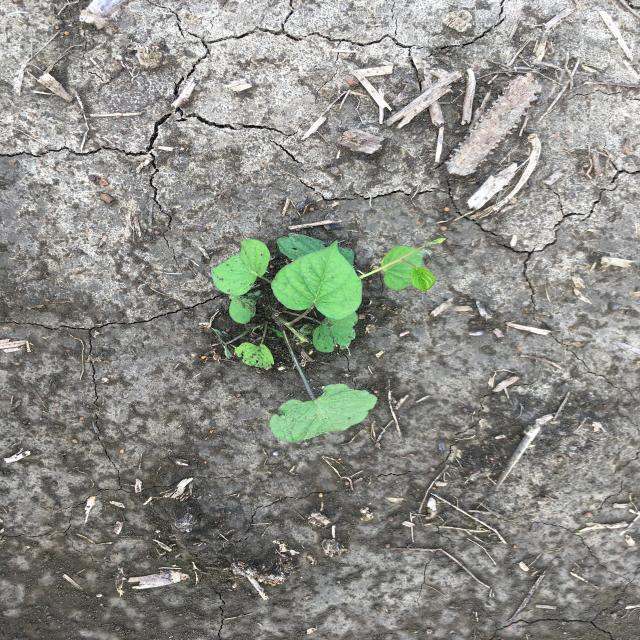MorningGlory: (207, 232, 449, 446)
